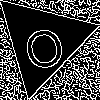O: (18, 16, 68, 72)
